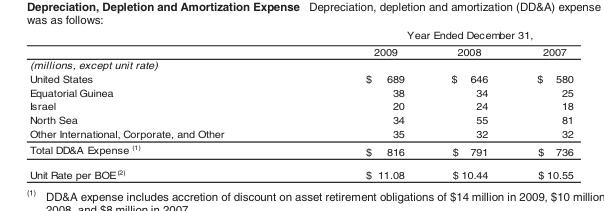table: (28, 28, 572, 179)
table column: (28, 28, 294, 179), (294, 28, 427, 179), (427, 28, 511, 179), (511, 28, 572, 179)
table column header: (28, 28, 572, 57)
table projected row header: (28, 57, 572, 71)
table row: (28, 141, 572, 162), (28, 162, 572, 179), (28, 42, 572, 57), (28, 126, 572, 141), (28, 28, 572, 42), (28, 57, 572, 71), (28, 71, 572, 85), (28, 85, 572, 99), (28, 112, 572, 126), (28, 99, 572, 112)
table spanning cell: (294, 28, 572, 42)
